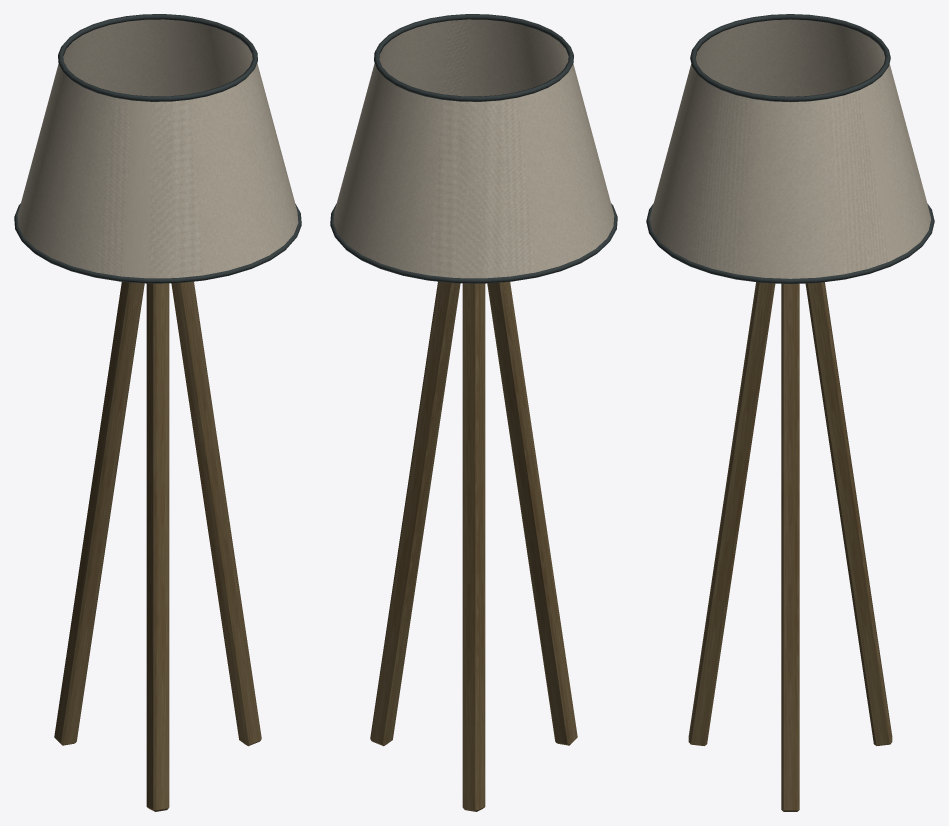
3 renders of one model, left to right at view 1: azimuth 30°, elevation 25°; view 2: azimuth 150°, elevation 25°; view 3: azimuth 270°, elevation 25°, orthographic.
Visible parts, largest first — view 1: Mesh_linen, Mesh_warm, Mesh_iron; view 2: Mesh_linen, Mesh_warm, Mesh_iron; view 3: Mesh_linen, Mesh_warm, Mesh_iron.
Part boxes in pixels (<box>): Mesh_linen: <box>17,19,298,278</box>; Mesh_warm: <box>54,281,261,811</box>; Mesh_iron: <box>14,14,301,283</box>; Mesh_linen: <box>333,19,614,278</box>; Mesh_warm: <box>370,281,577,811</box>; Mesh_iron: <box>330,14,617,283</box>; Mesh_linen: <box>649,19,931,278</box>; Mesh_warm: <box>688,282,892,811</box>; Mesh_iron: <box>646,14,934,283</box>.
Bounding box in the file's own units: 0.592 × 1.61 × 0.592.
Materials: 4 (2 with a texture image).
